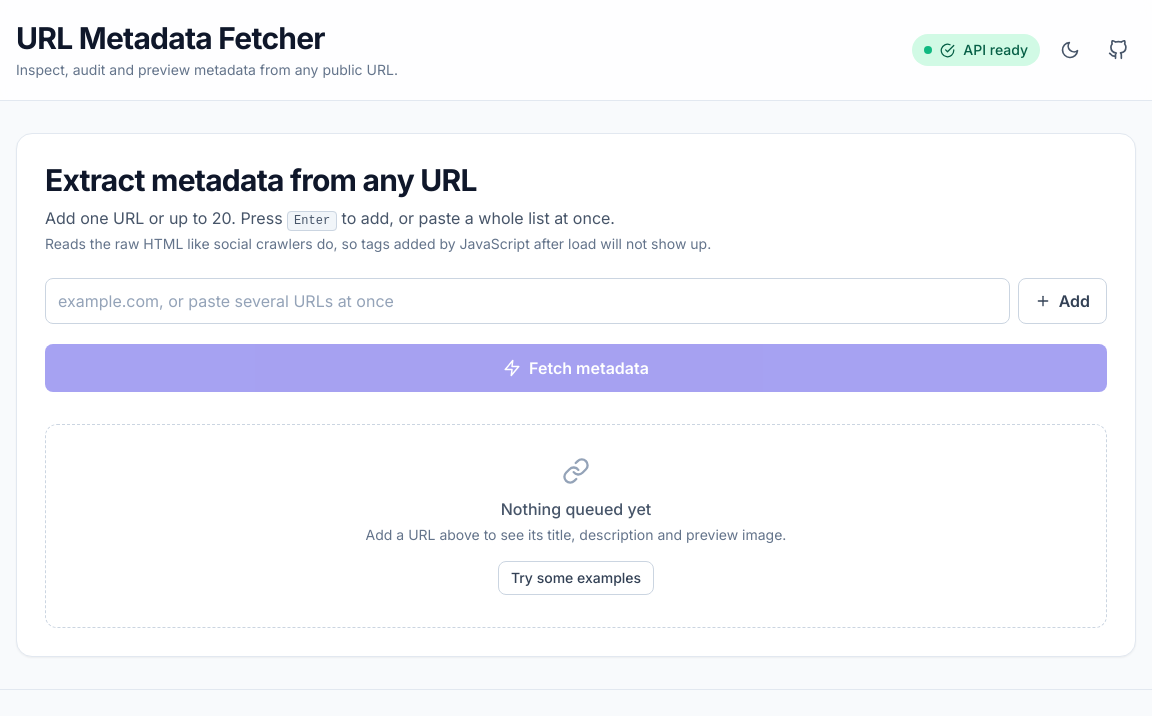
Test: App › fetches metadata for a single URL with no three-URL minimum
Expected: the message reads "API ready", [963, 41, 1028, 58]
Type "example.com" into the field named "web address" at (527, 301), box [45, 278, 1010, 324]
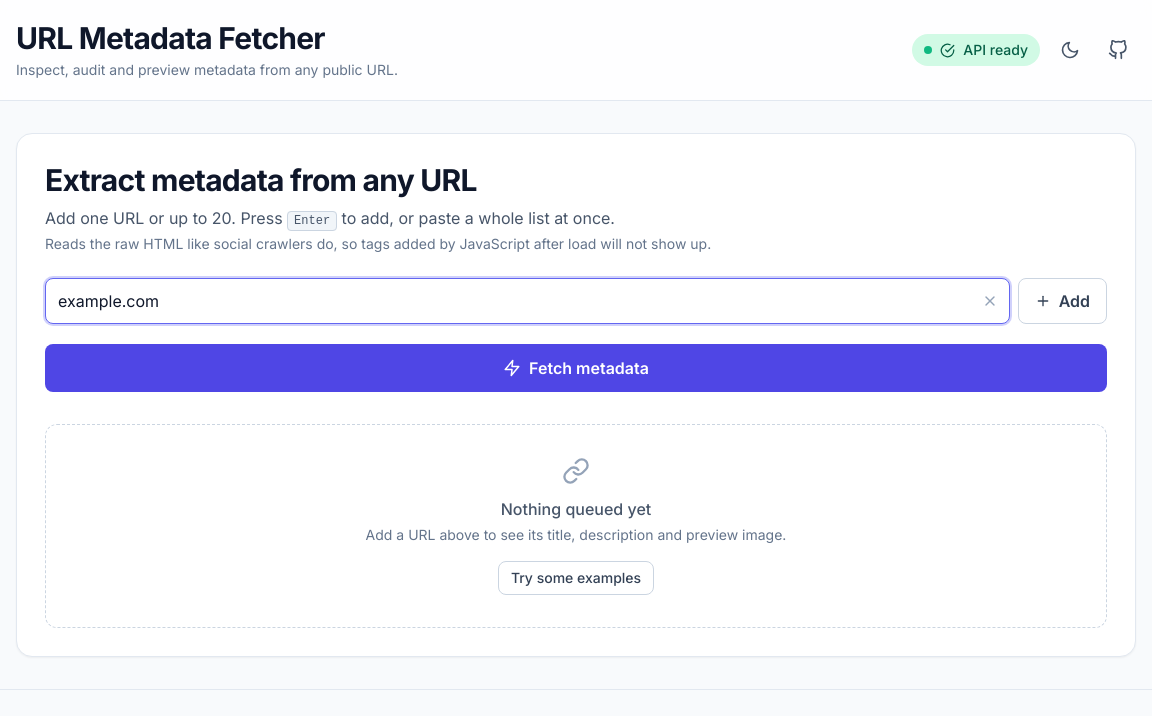
Click the button "Add" at (1062, 301), box [1018, 278, 1107, 324]
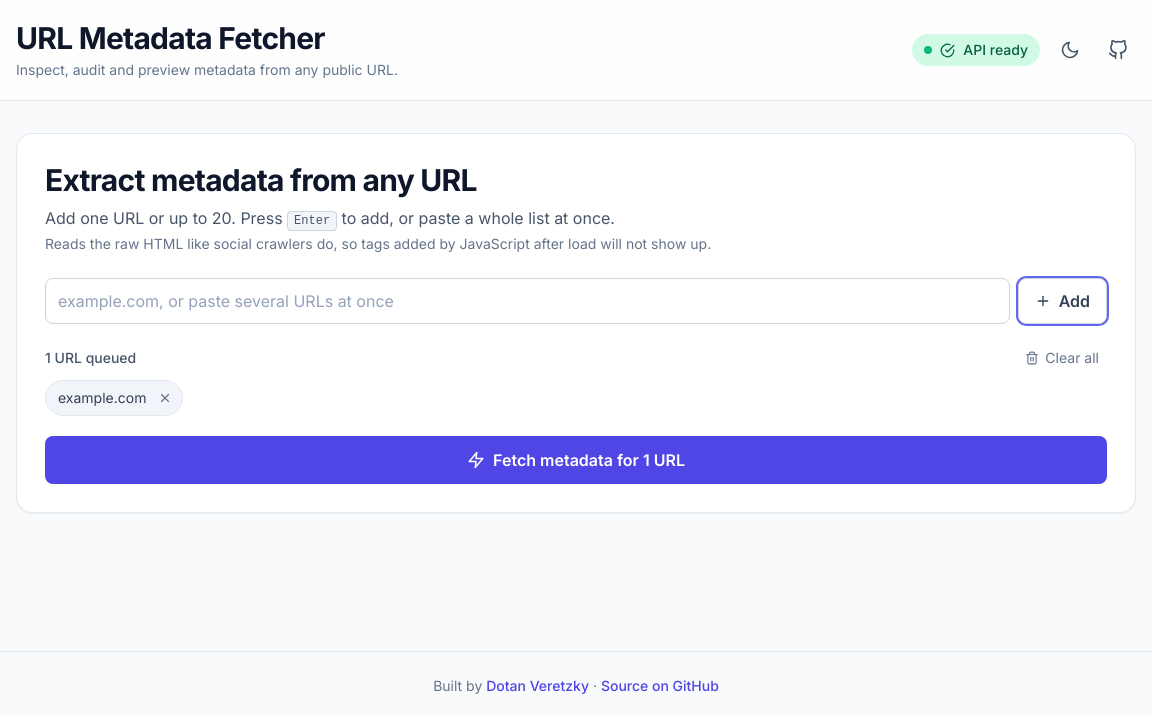
Click the button "Fetch metadata for 1 URL" at (576, 460), box [45, 436, 1107, 484]
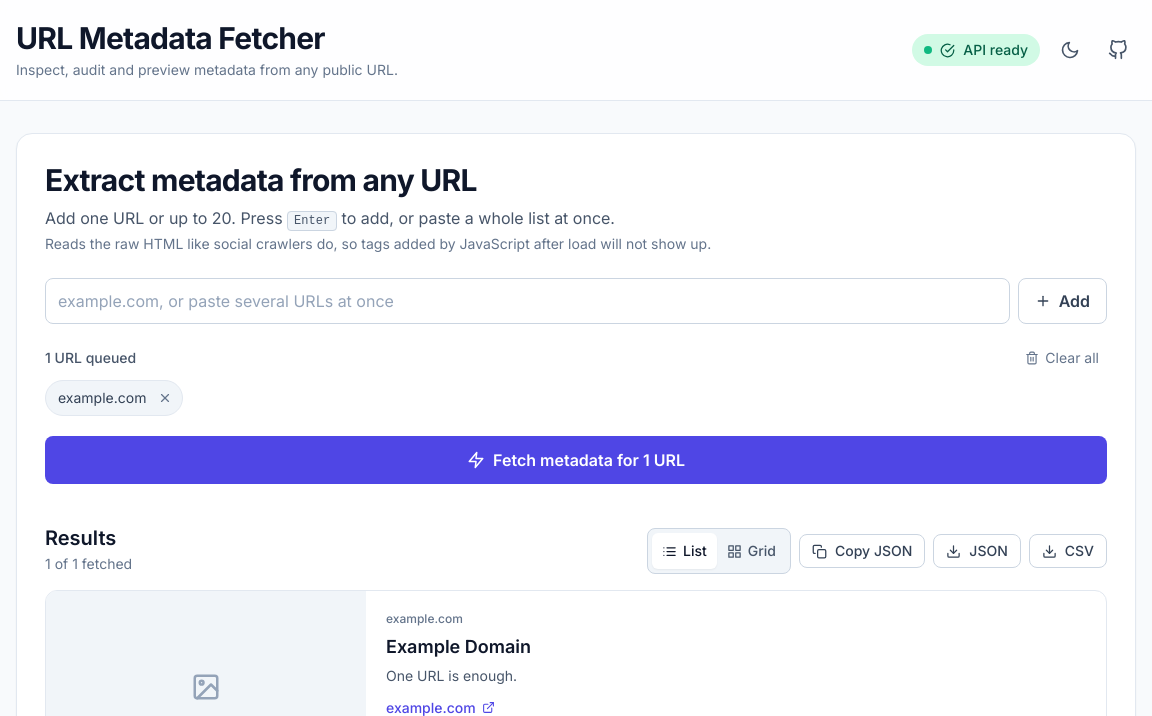
Result: the heading "Example Domain" is shown at [386, 636, 531, 657]
Result: the text "1 of 1 fetched" is shown at [45, 554, 132, 574]
